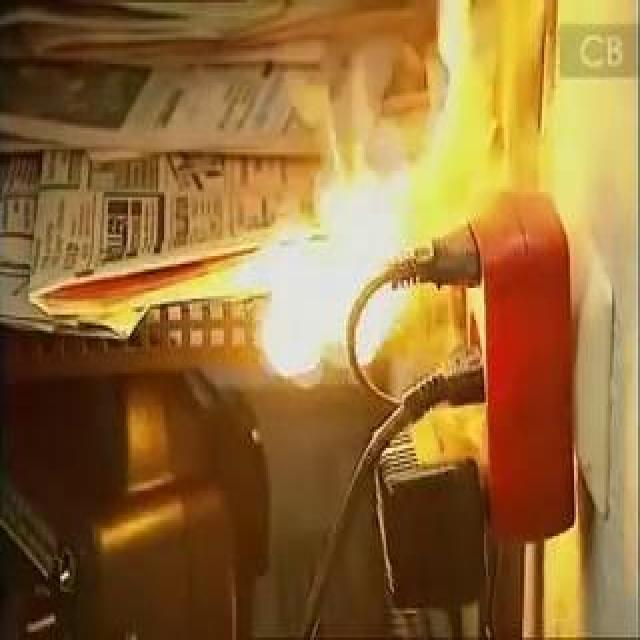Fire: (235, 3, 541, 312)
